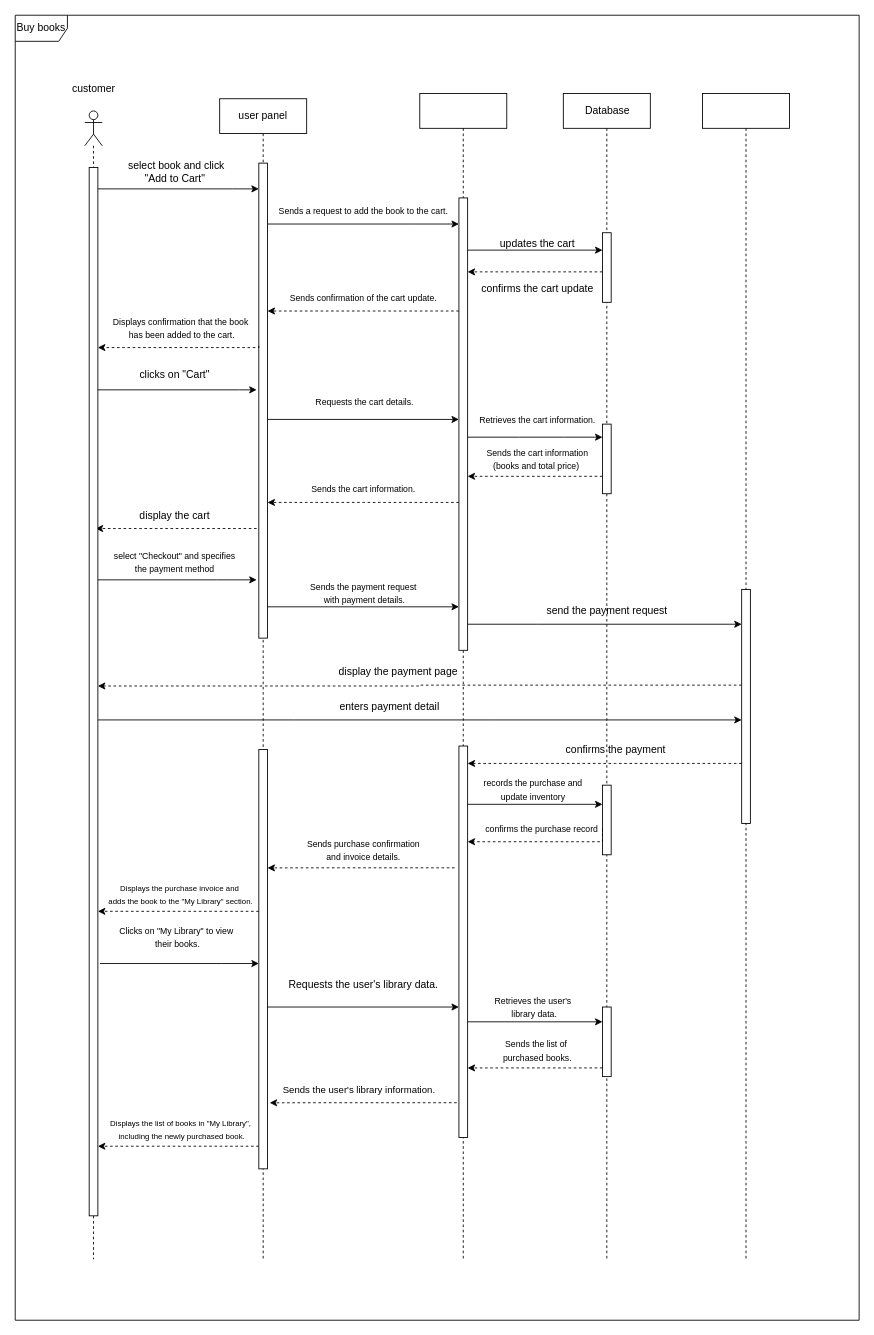
Some shapes in this 874 by 1335 pixel diagram are drawn without their labels. The box of each missing label's shape, as (x1, y1, x2, y2) in pixels:
payment gateway: (702, 93, 790, 1259)
system: (419, 93, 507, 1259)
